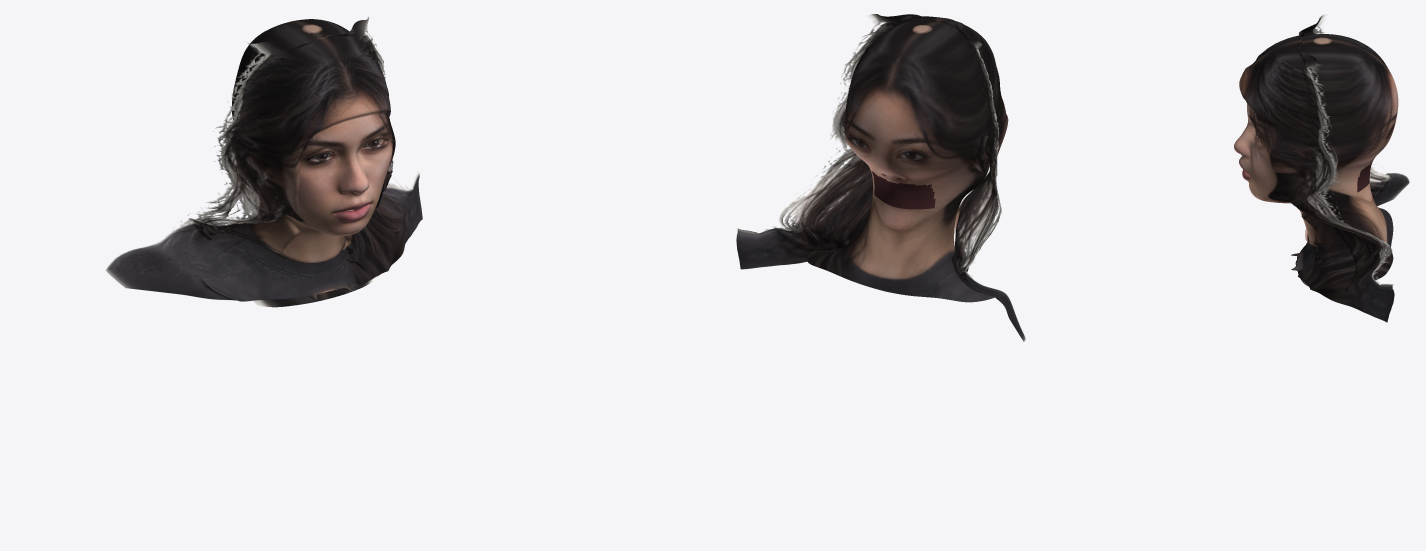
File: head.glb
The picture shows the model from 3 angles, left to right: view 1: azimuth 30°, elevation 25°; view 2: azimuth 150°, elevation 25°; view 3: azimuth 270°, elevation 25°; orthographic projection. The views are drawn at different scales.
Parts seen in each view (by area): view 1: HairShell, Head; view 2: Head, HairShell; view 3: HairShell, Head.
Boxes of the visible parts, x1,y1,x2,y2 form: HairShell: (106, 16, 422, 301); Head: (200, 19, 392, 307); Head: (807, 20, 995, 302); HairShell: (736, 14, 1025, 341); HairShell: (1239, 14, 1409, 322); Head: (1234, 34, 1398, 286).
Bounding box in the file's own units: 0.6883 × 0.4978 × 0.2124.
Materials: 4 (3 with a texture image).
